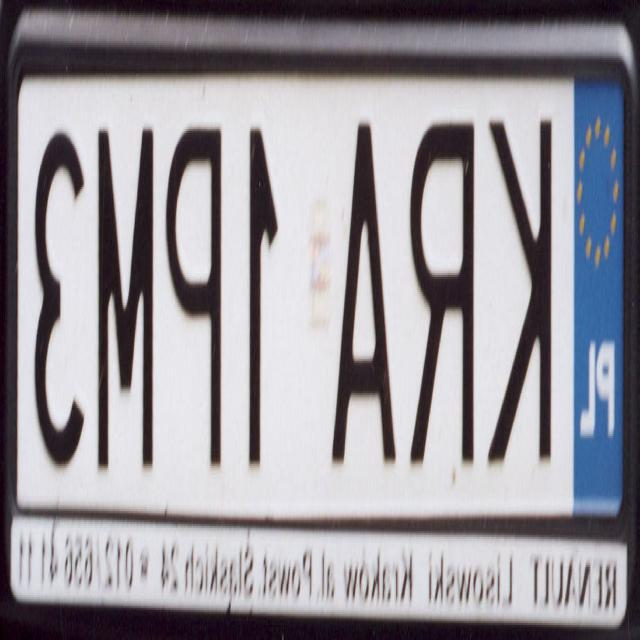pl_license_plate: (17, 77, 624, 503)
